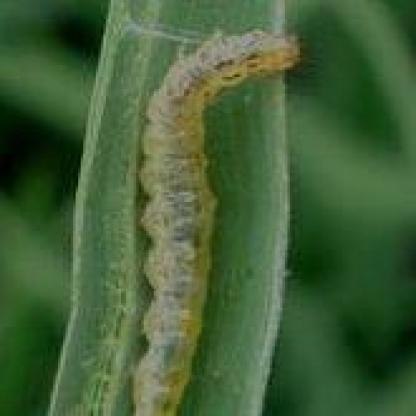leaf-folder: (121, 23, 321, 416)
